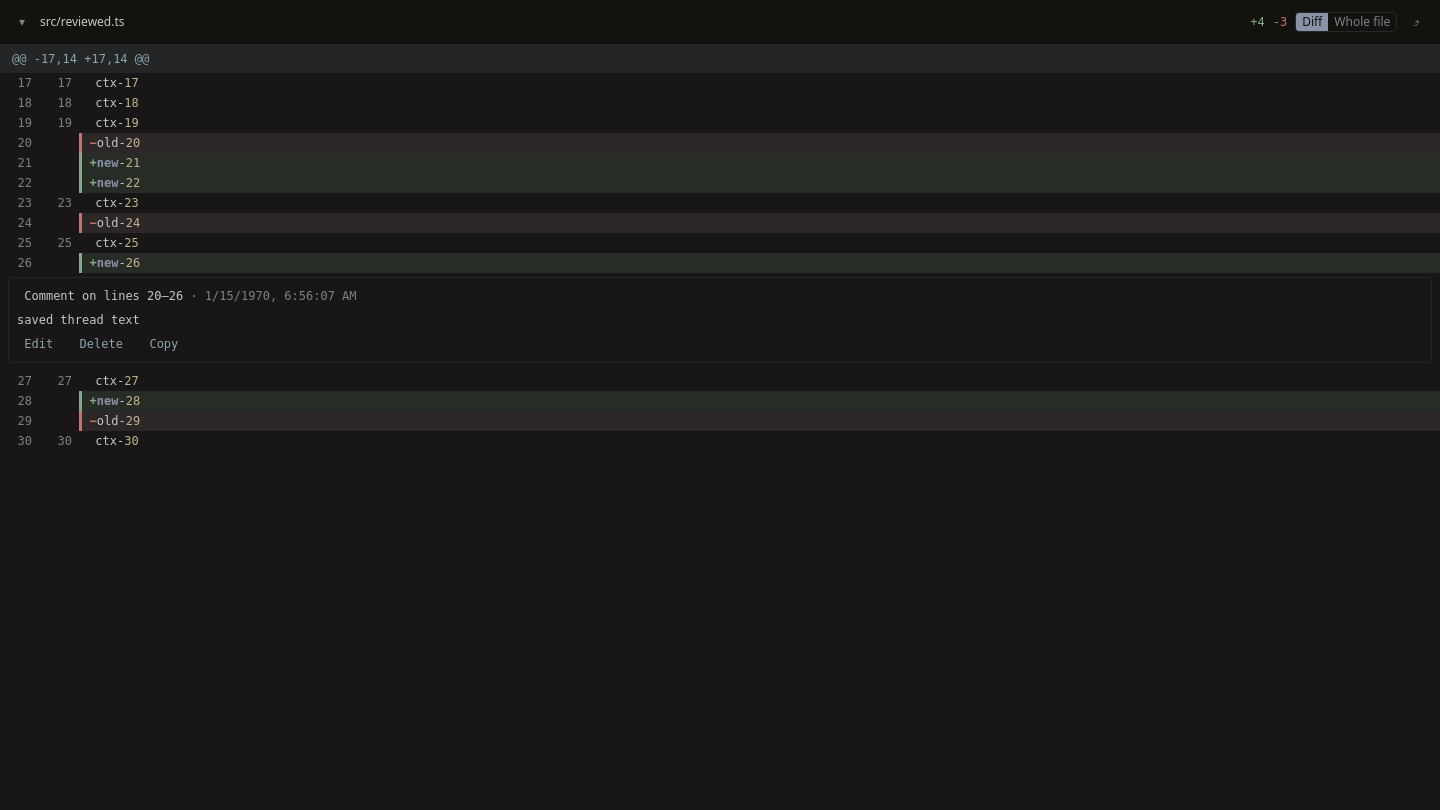
Test: SidebarDiffView inline comment threads › Edit swaps the thread card to the editor in place, no popup
The image size is (1440, 810).
Click the button with test id "diff-comment-edit". click: (39, 344)
box: [17,334,60,354]
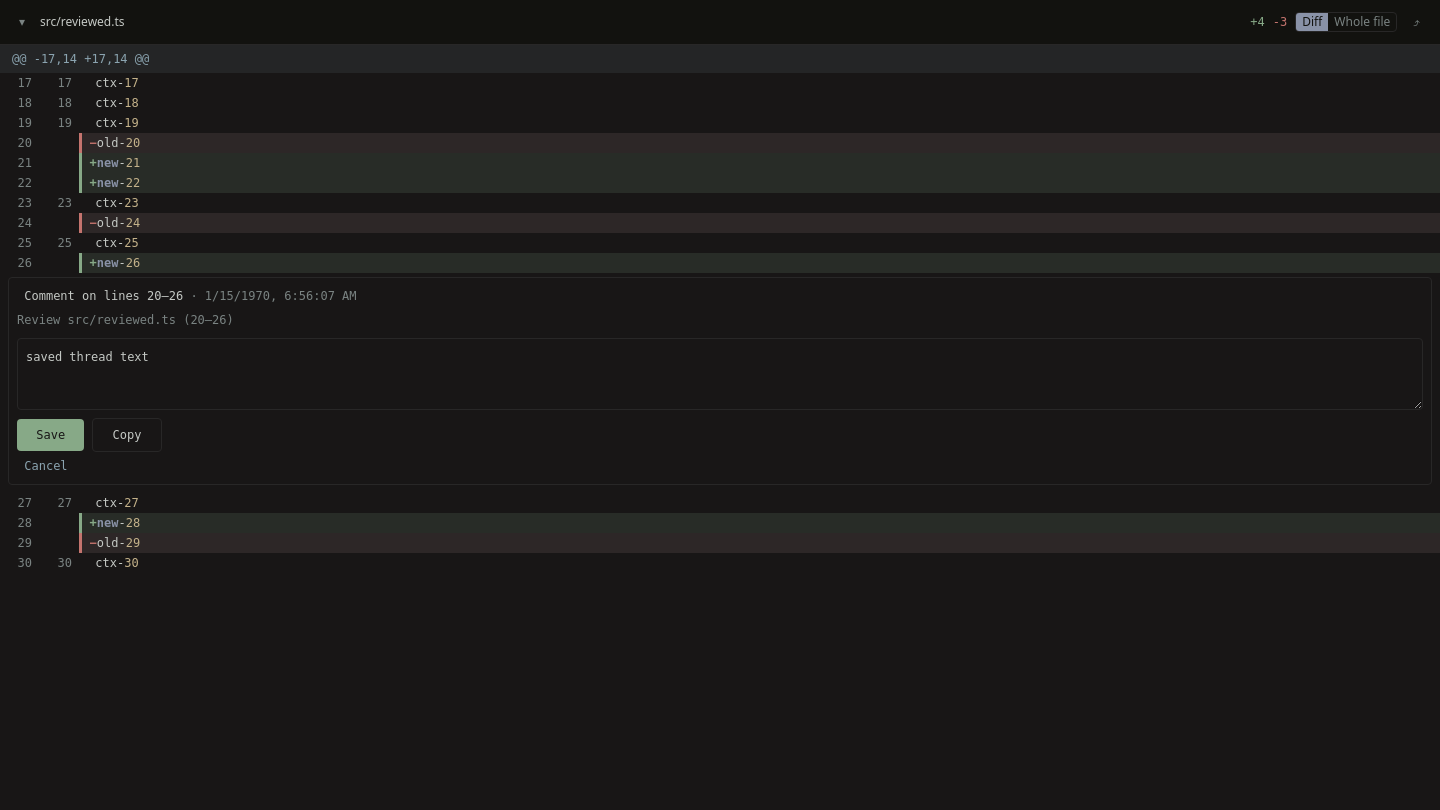
Result: the element showing "Review src/reviewed.ts (20–26) Save Copy" is shown at [17,310,1423,452]
Result: the text box with test id "diff-comment-input" holds "saved thread text" at [17,338,1423,410]
Result: the button with test id "diff-comment-cancel" is shown at [17,456,75,476]
